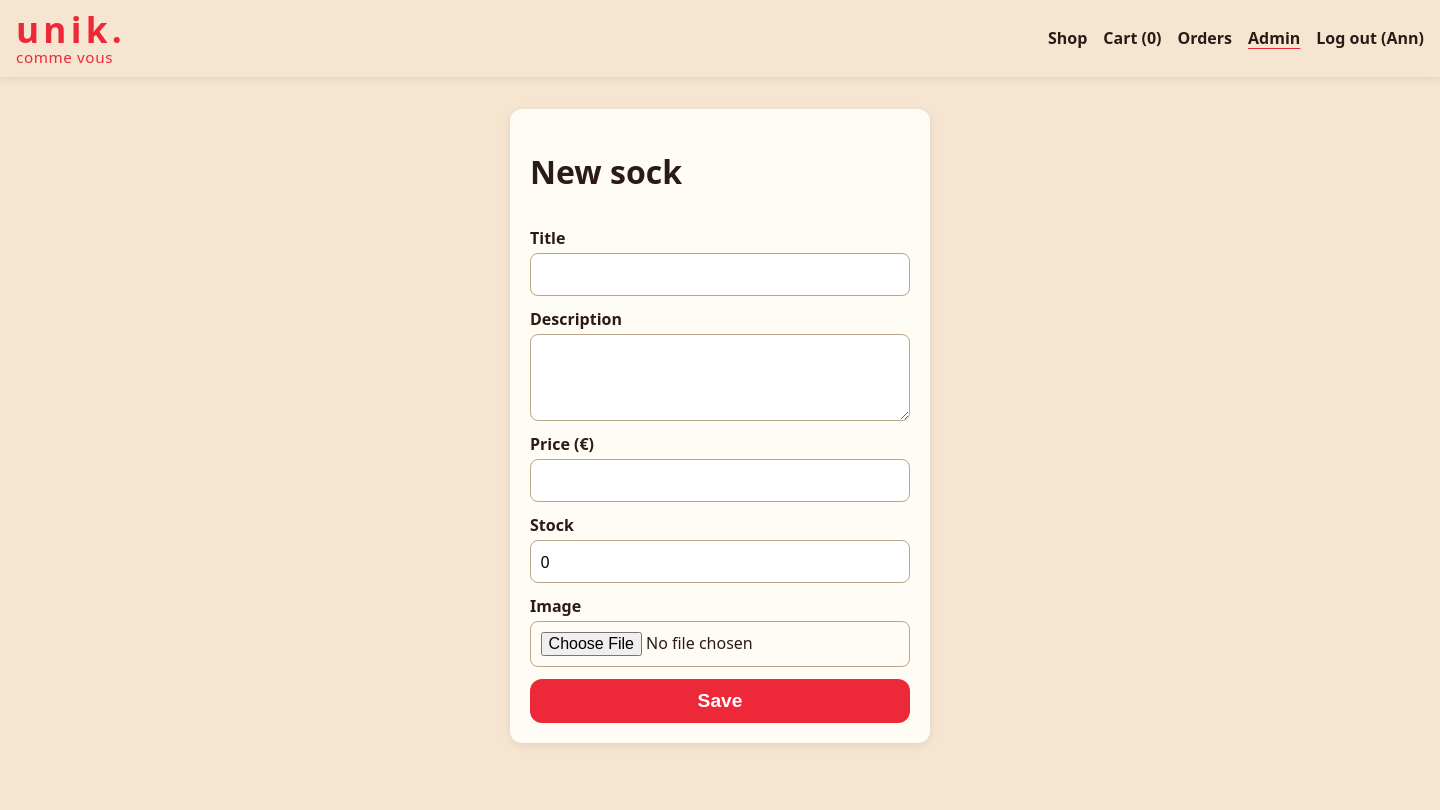
Test: rejects an invalid price client-side
Type "S" into the field labelled "Title".
click(720, 274); type("S")  # box left=530, top=253, right=910, bottom=296
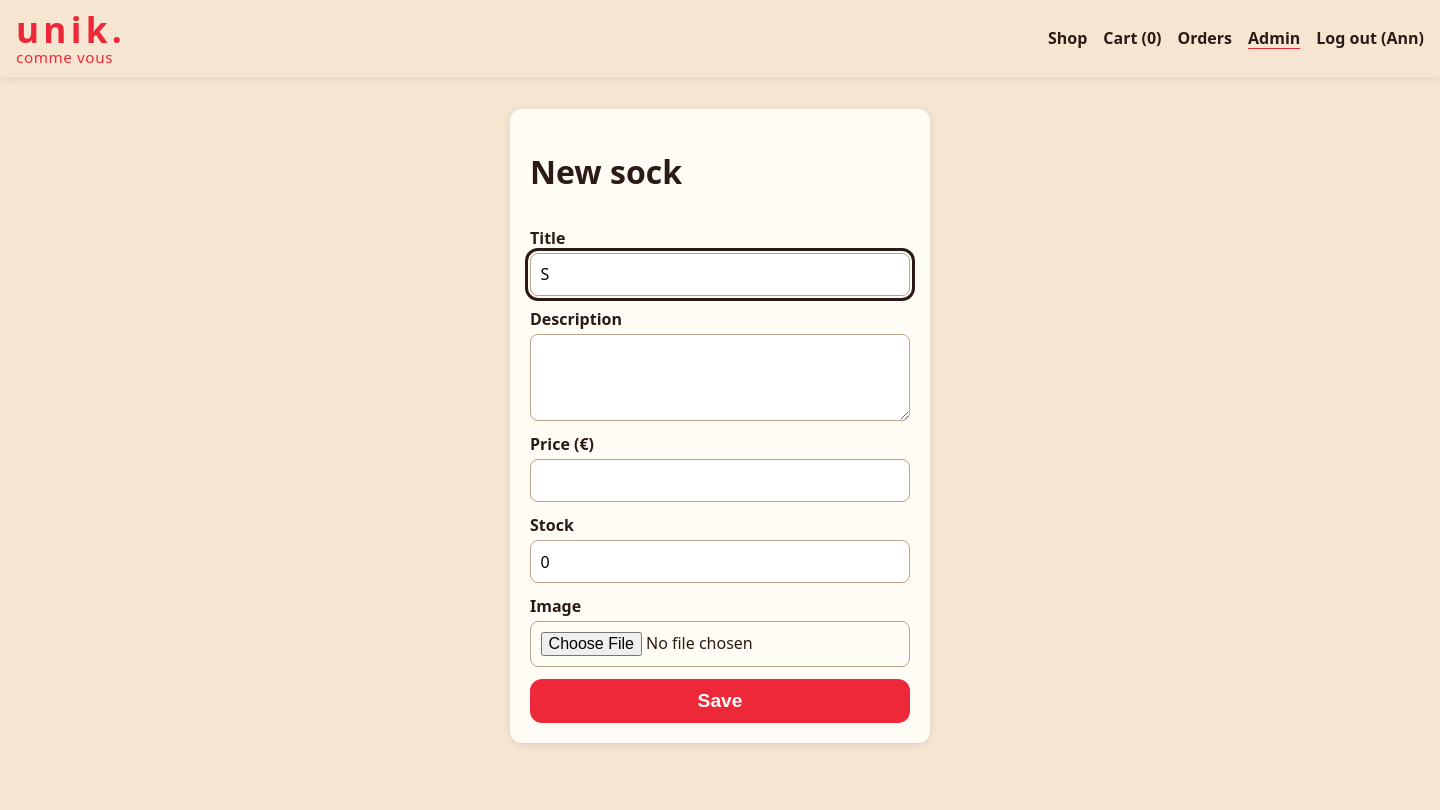
Type "D" into the text box labelled "Description".
click(720, 378); type("D")  # box left=530, top=334, right=910, bottom=421
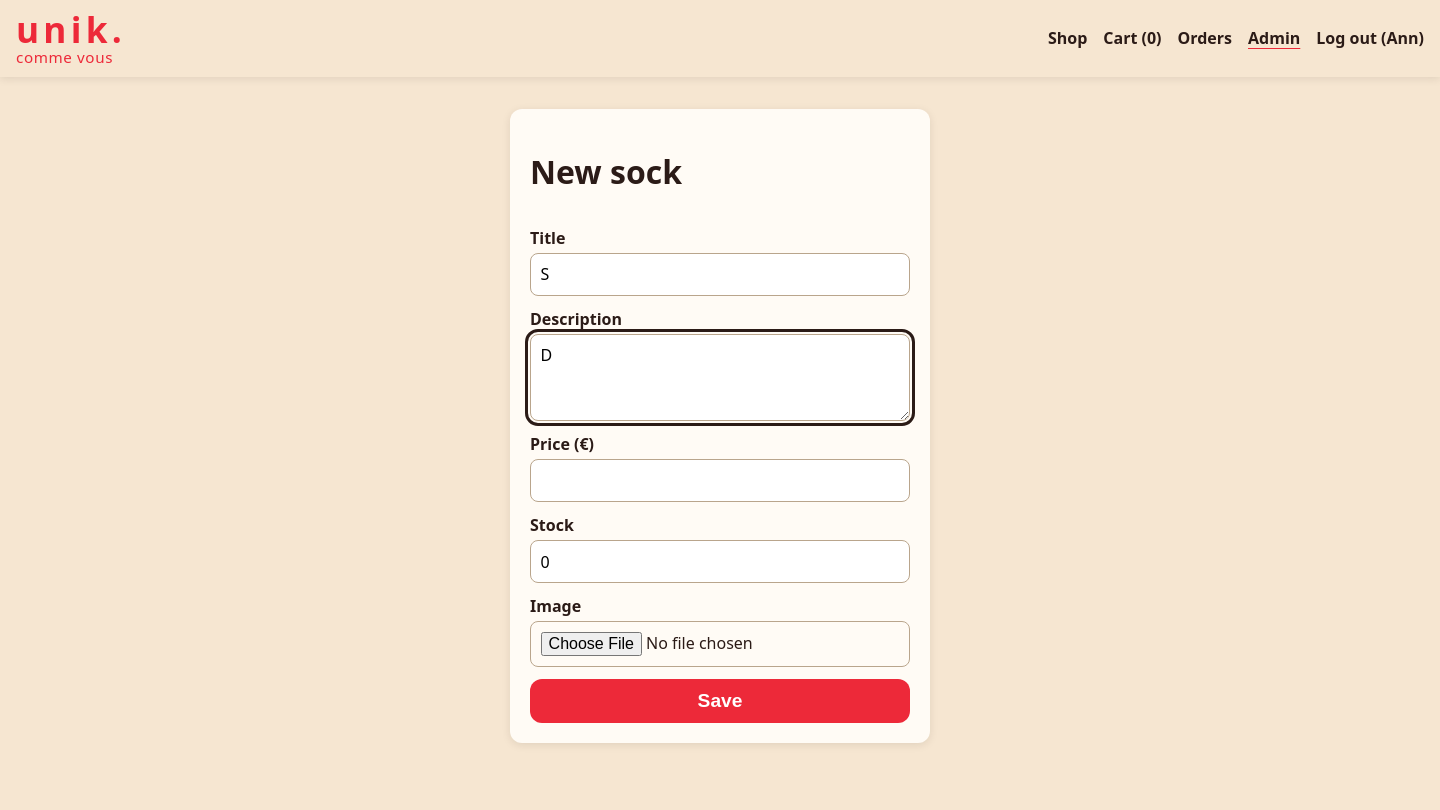
Click the button "Save".
click(720, 701)  # box left=530, top=679, right=910, bottom=723
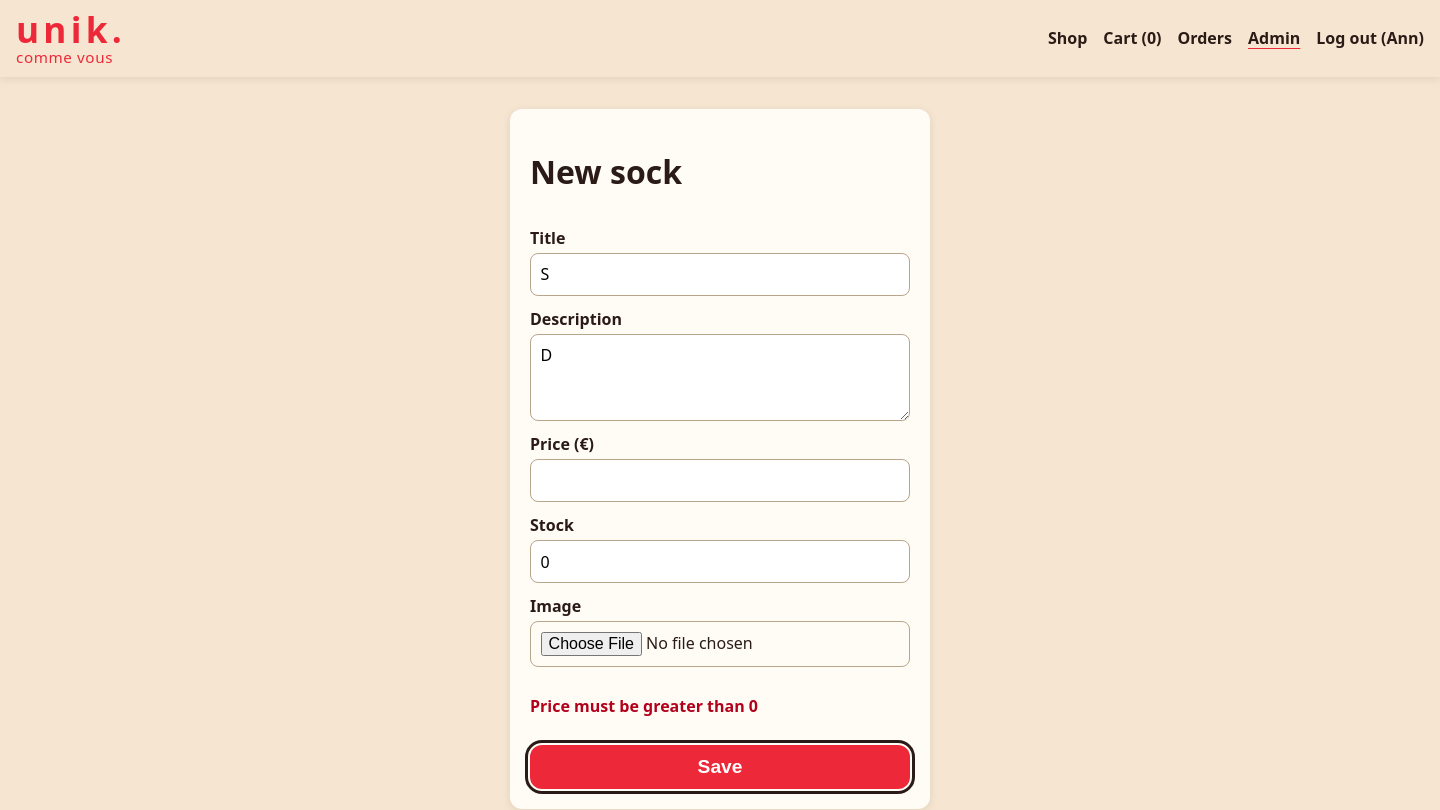
Check: the message shows "Price", box left=530, top=695, right=758, bottom=717
